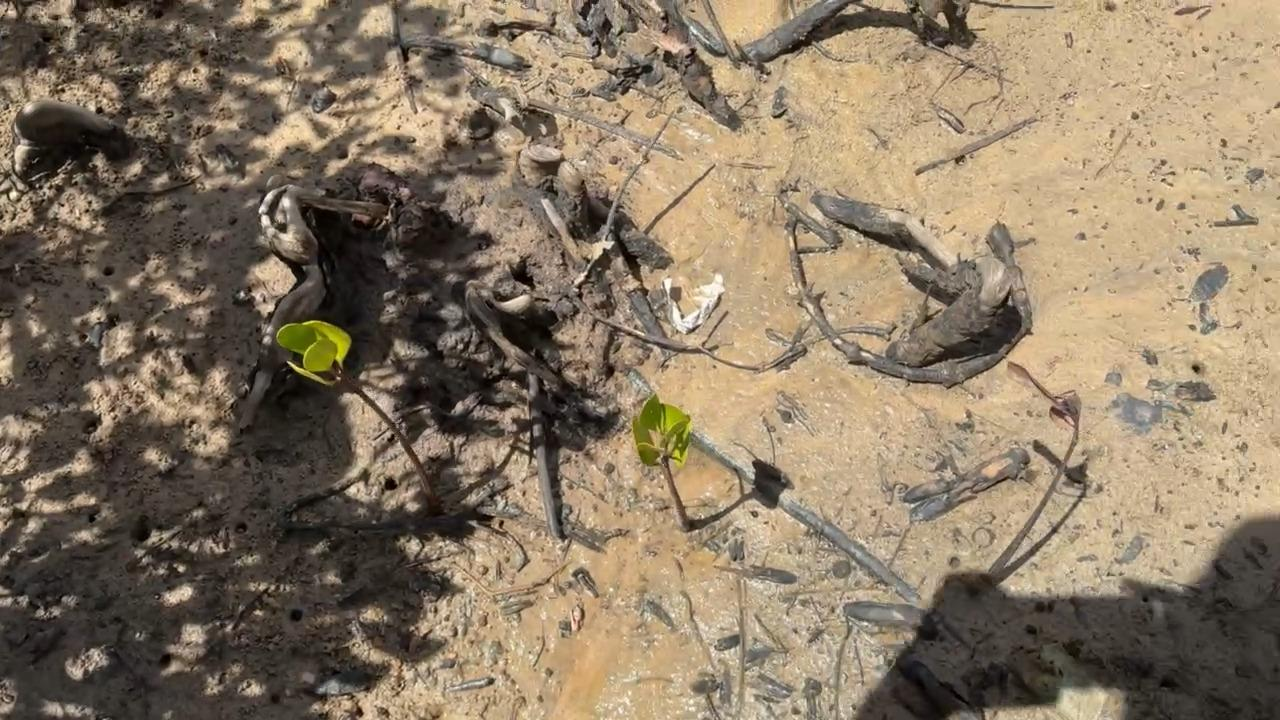Tree: (277, 320, 443, 516), (635, 393, 690, 532)
